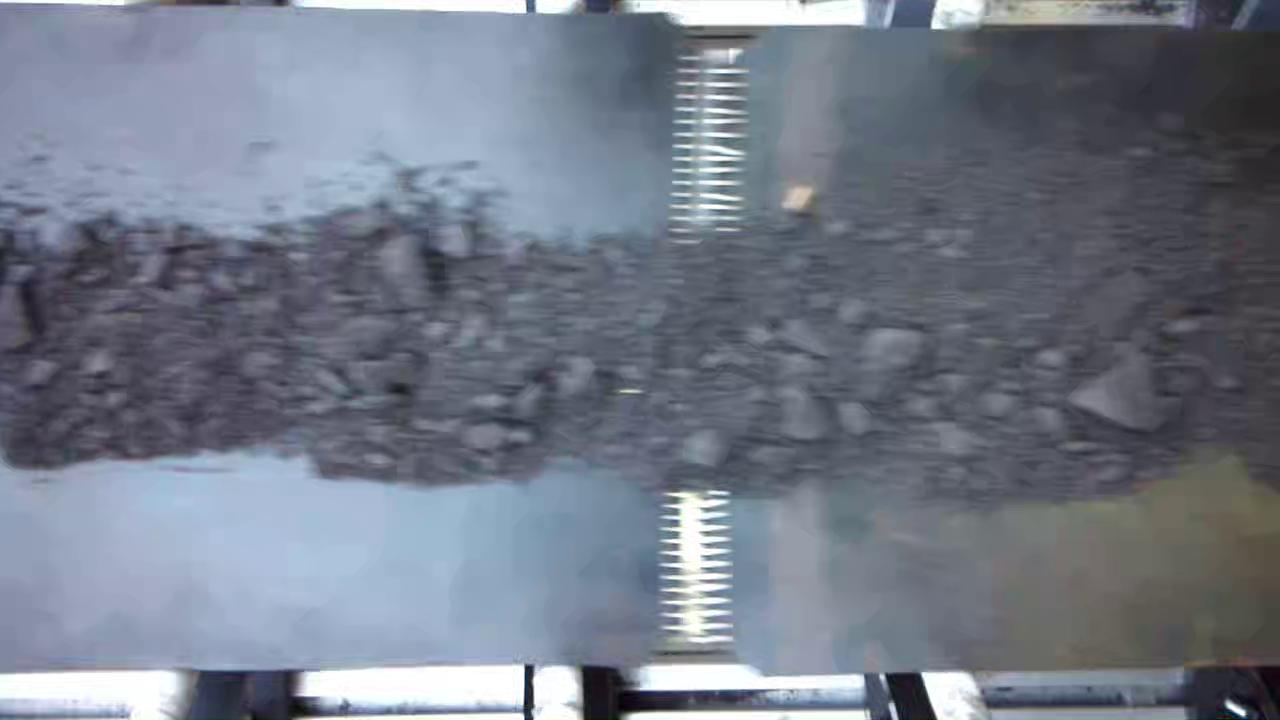conveyor: (3, 28, 1280, 670)
